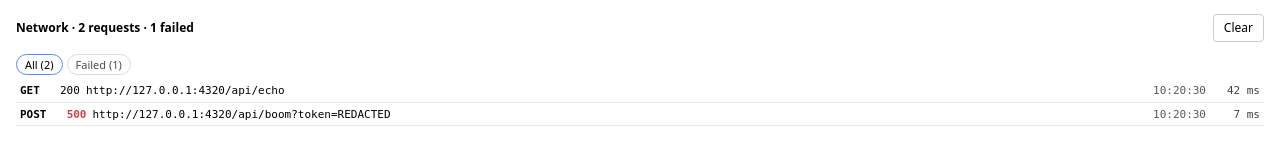
NetworkDrawer › clears both the Host buffer and the local rows
Click the button "Clear" at (1238, 28), box left=1213, top=14, right=1264, bottom=42
Wait 500 ms
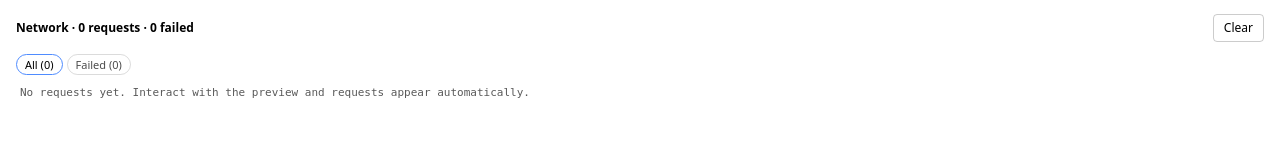
Now the text "Network · 0 requests · 0 failed" is shown, box left=16, top=19, right=194, bottom=36
Now the list item "No requests yet. Interact with the preview and requests appear automatically." is shown, box left=20, top=86, right=530, bottom=99
